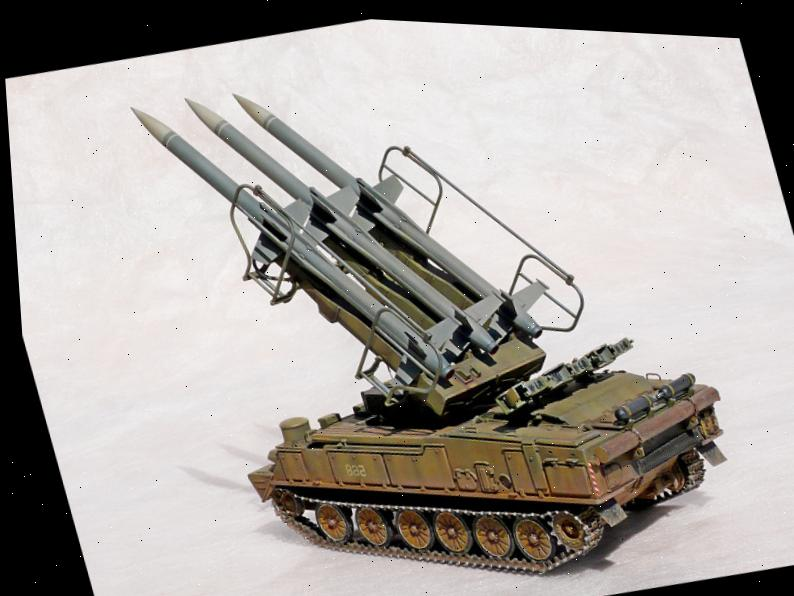armored_car: (115, 6, 772, 596)
